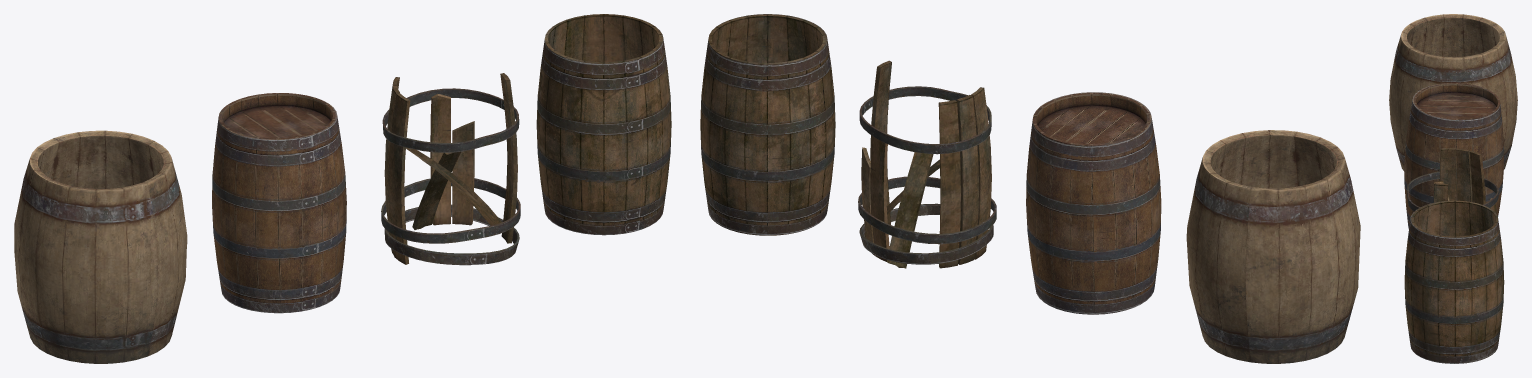
The model's file is barrels.fbx.
The picture shows the model from 3 angles, left to right: view 1: azimuth 30°, elevation 25°; view 2: azimuth 150°, elevation 25°; view 3: azimuth 270°, elevation 25°; orthographic projection. The views are drawn at different scales.
Parts seen in each view (by area): view 1: barrel_big, mesh0, barrel_small_open, barrel_small_broken; view 2: barrel_big, mesh0, barrel_small_open, barrel_small_broken; view 3: mesh0, barrel_big, barrel_small_open, barrel_small_broken.
Boxes of the visible parts, x1,y1,x2,y2 form: barrel_big: [14, 130, 187, 363]; mesh0: [536, 14, 671, 235]; barrel_small_open: [212, 93, 346, 313]; barrel_small_broken: [381, 73, 520, 265]; barrel_big: [1186, 130, 1360, 363]; mesh0: [700, 14, 835, 235]; barrel_small_open: [1026, 92, 1161, 314]; barrel_small_broken: [858, 60, 996, 268]; mesh0: [1404, 200, 1504, 363]; barrel_big: [1389, 14, 1517, 171]; barrel_small_open: [1404, 83, 1503, 228]; barrel_small_broken: [1407, 148, 1498, 213].
Bounding box in the file's own units: 137 × 35.89 × 32.55.
